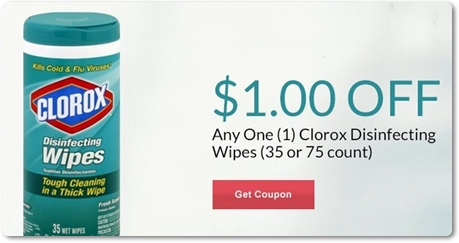Wipes: (20, 9, 125, 239)
